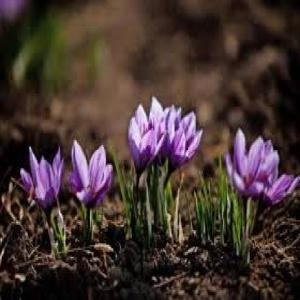Saffron: (69, 140, 114, 212), (228, 126, 268, 206), (21, 147, 64, 215), (166, 111, 202, 176), (128, 117, 164, 180)
